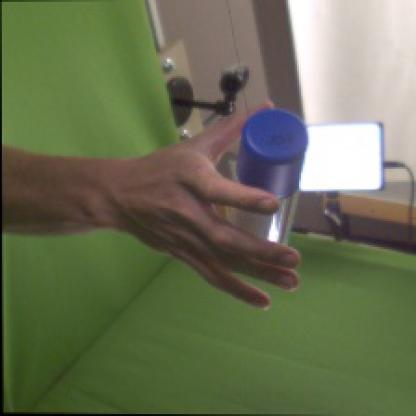Hand: (127, 100, 302, 312)
